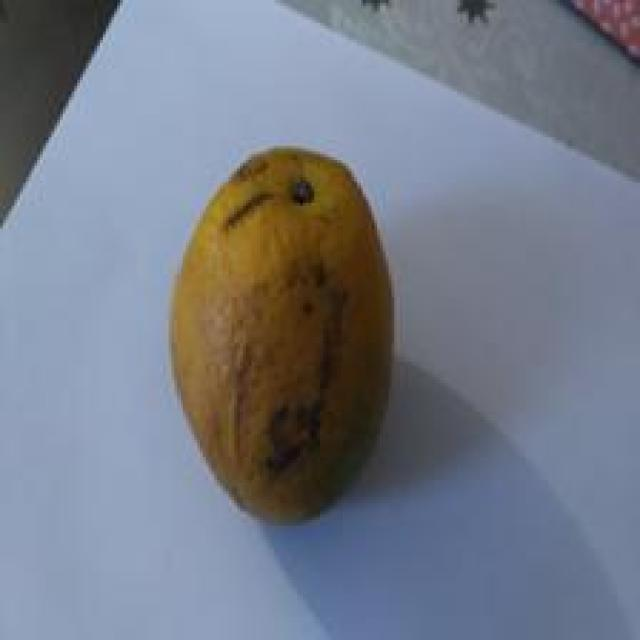overripe: (164, 138, 400, 532)
